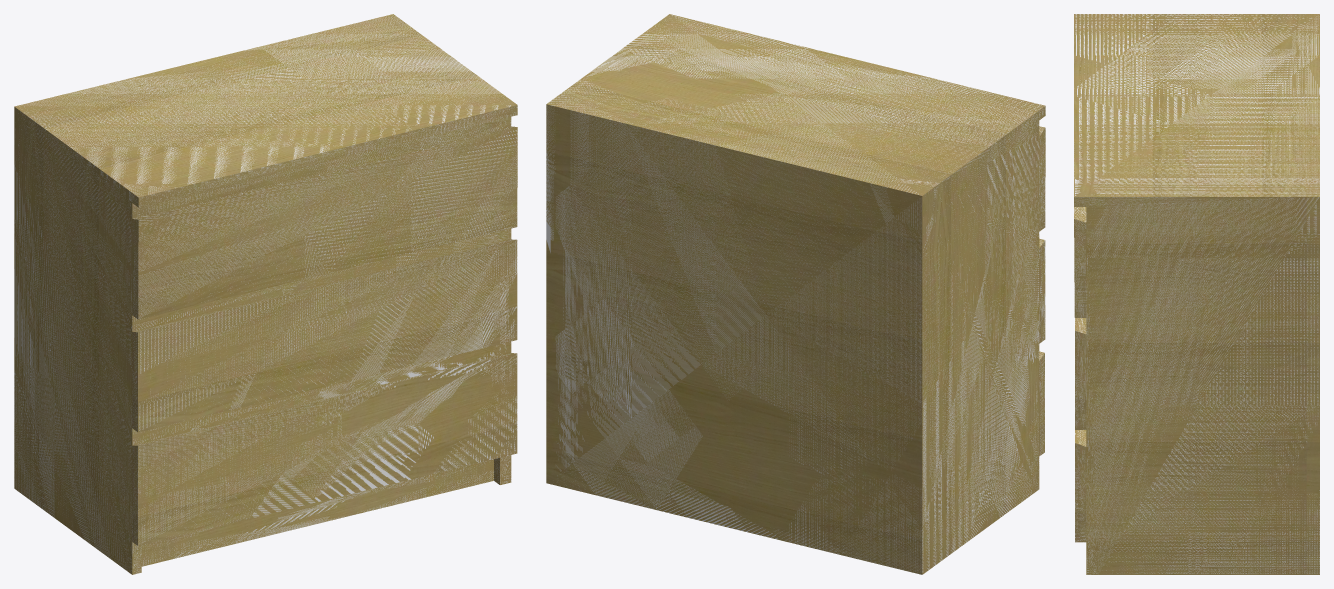
File: Kommode_Malm.dae
3 renders of one model, left to right at view 1: azimuth 30°, elevation 25°; view 2: azimuth 150°, elevation 25°; view 3: azimuth 270°, elevation 25°, orthographic.
Parts seen in each view (by area): view 1: SketchUp; view 2: SketchUp; view 3: SketchUp.
Part boxes in pixels (x1,y1,x2,y2): SketchUp: (14, 14, 517, 574); SketchUp: (546, 14, 1045, 574); SketchUp: (1074, 14, 1319, 574).
Bounding box in the file's own units: 0.81 × 0.46 × 0.78.
3 materials, 1 textured.
